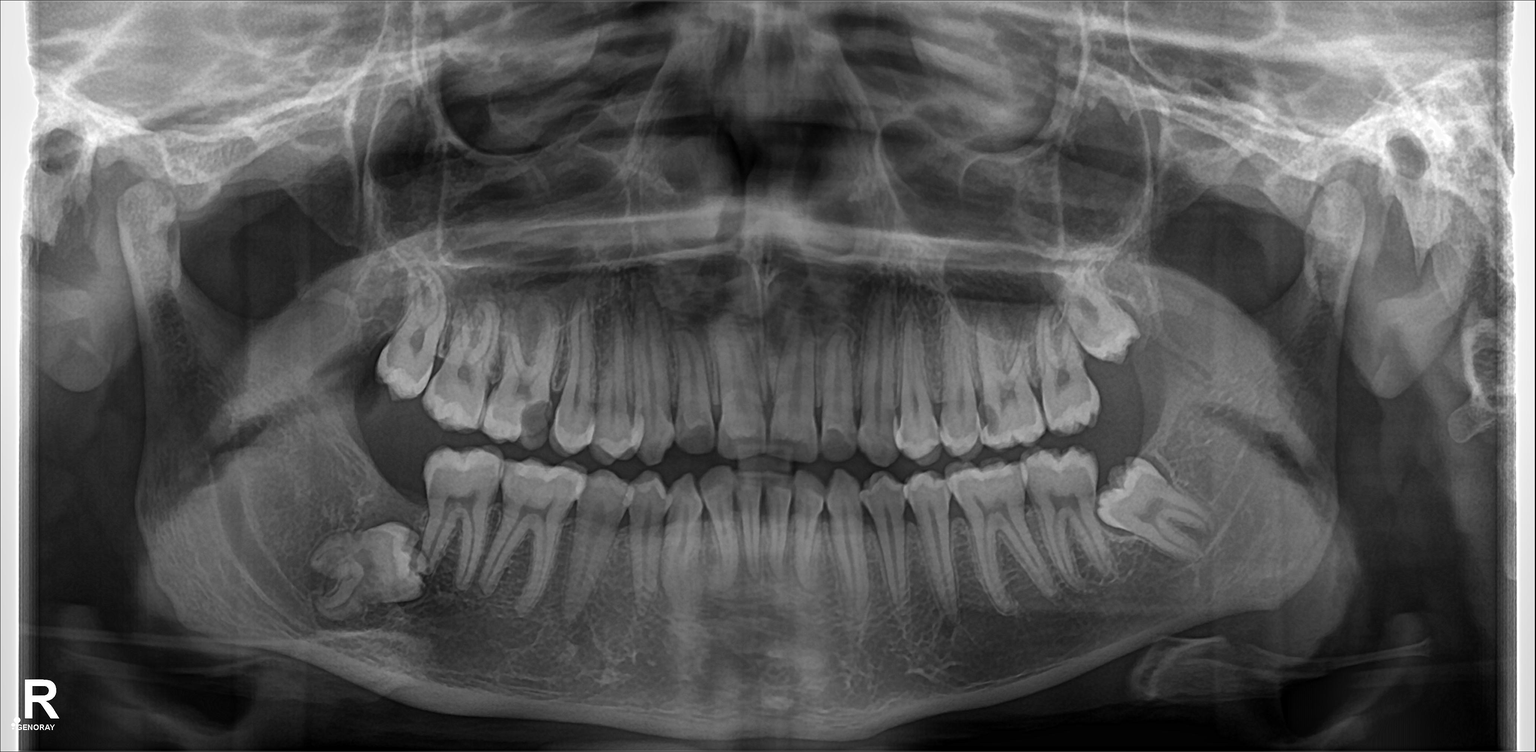Dental Caries: (527, 404, 553, 454), (974, 396, 1001, 441)
Impacted Third Molar: (296, 534, 431, 602), (1105, 462, 1210, 548), (1056, 272, 1143, 361)
Missing Tooth: (358, 434, 426, 526)
